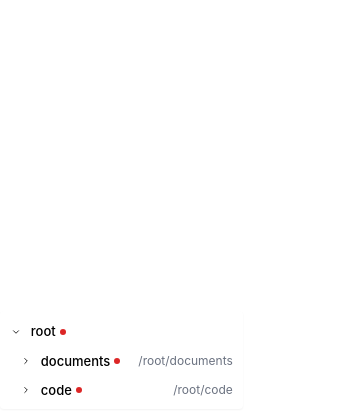
it: FolderBrowser › Inline Editing › starts rename mode when "Rename folder" is clicked
Right-click the text "documents" at (81, 361), box [41,352,120,369]
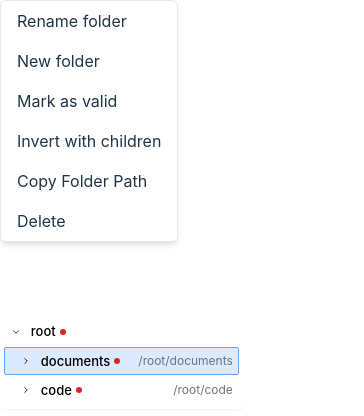
Click the text "Rename folder" at (72, 21), box [17,11,127,31]
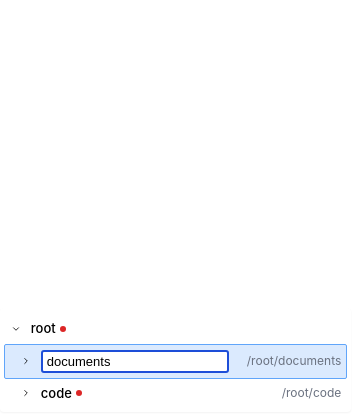
Expected: the field showing "documents" is shown, [41,350,229,372]
